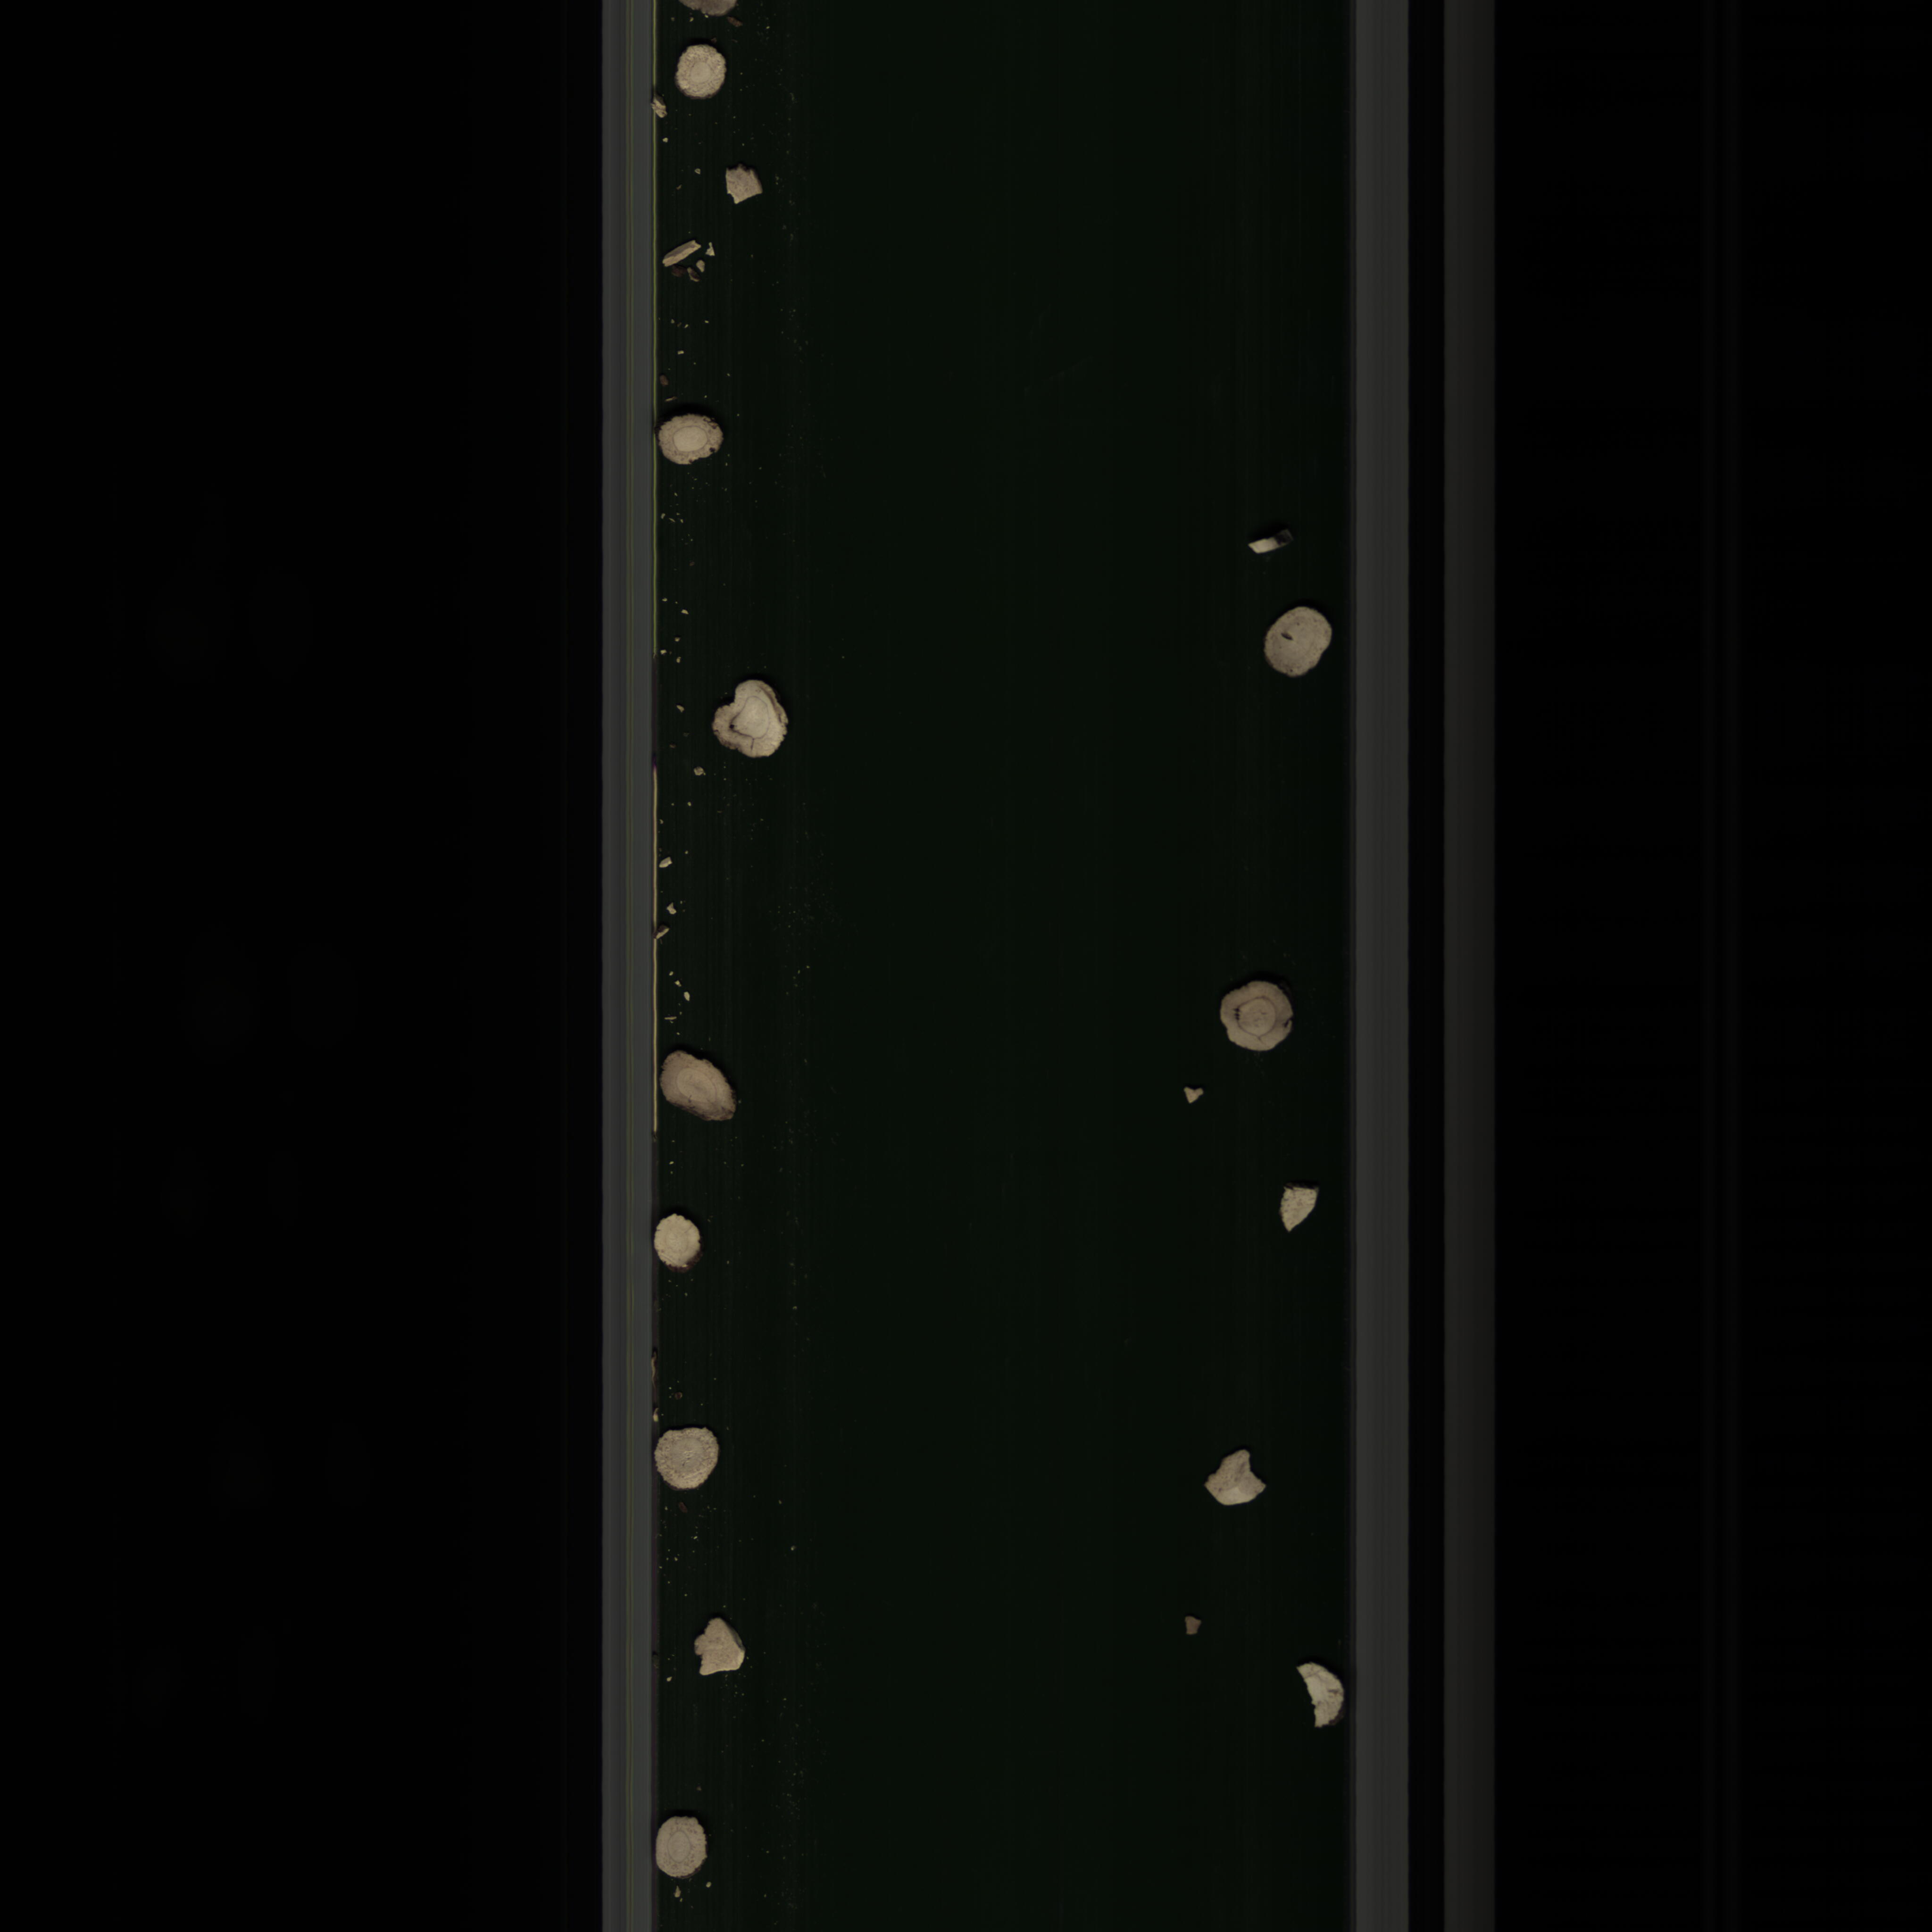bark: (1244, 518, 1300, 577)
debris: (679, 1610, 761, 1686), (1200, 1438, 1274, 1520), (1281, 1658, 1350, 1732), (1276, 1173, 1318, 1238), (717, 161, 771, 207), (662, 237, 704, 276)
distortion: (701, 671, 805, 763)
hole: (1261, 598, 1338, 679)
moldy: (1210, 975, 1304, 1062), (660, 1037, 745, 1131)
